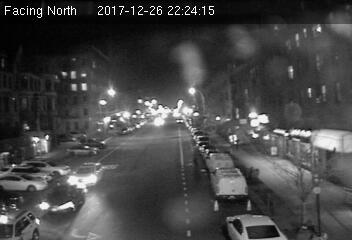car: (220, 211, 289, 239), (38, 182, 88, 217), (68, 161, 106, 186)
truck: (212, 168, 250, 200)
